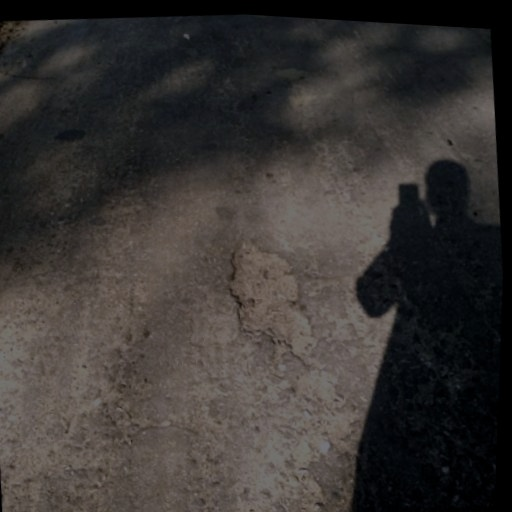pothole: (219, 231, 324, 366)
